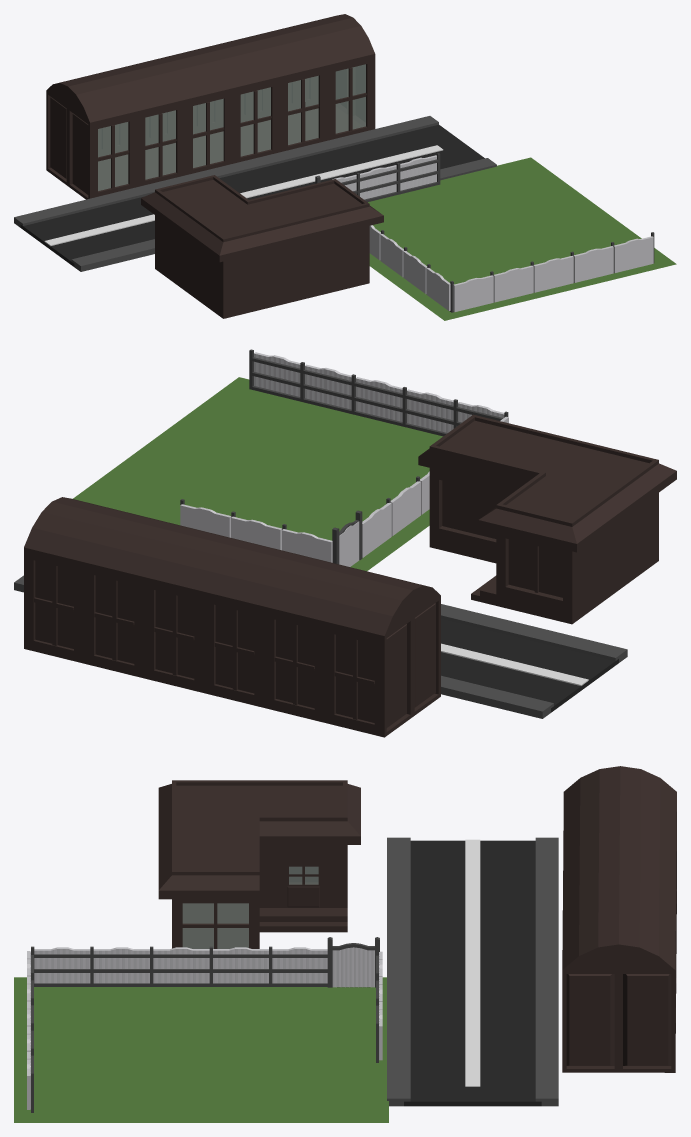
Rendered from улица.fbx.
3 views of the same model, one above another, from view 1: azimuth 30°, elevation 25°; view 2: azimuth 150°, elevation 25°; view 3: azimuth 270°, elevation 25° (orthographic). The views are drawn at different scales.
Parts seen in each view (by area): view 1: Cube.063, Cube.064, Plane, Cube.052, Cube.059, Cube.058, Cube.060, Cube.056; view 2: Cube.063, Cube.064, Plane, Cube.052, Cube.059, Cube.055, Cube.060, Cube.058, Cube.054; view 3: Plane, Cube.052, Cube.063, Cube.064, Cube.058, Cube.057, Cube.054, Cube.053, Cube.059.
Boxes of the visible parts, bbox=[...] form: Cube.063: bbox=[46, 14, 375, 199]; Cube.064: bbox=[141, 175, 383, 318]; Plane: bbox=[368, 157, 676, 320]; Cube.052: bbox=[14, 116, 496, 271]; Cube.059: bbox=[453, 236, 653, 311]; Cube.058: bbox=[369, 225, 450, 310]; Cube.060: bbox=[332, 155, 436, 199]; Cube.056: bbox=[341, 153, 440, 202]; Cube.063: bbox=[24, 497, 440, 737]; Cube.064: bbox=[418, 414, 676, 624]; Plane: bbox=[73, 377, 442, 571]; Cube.052: bbox=[14, 575, 627, 718]; Cube.059: bbox=[254, 352, 504, 432]; Cube.055: bbox=[249, 349, 503, 436]; Cube.060: bbox=[180, 504, 332, 562]; Cube.058: bbox=[362, 416, 508, 557]; Cube.054: bbox=[339, 521, 359, 566]; Plane: bbox=[14, 977, 388, 1122]; Cube.052: bbox=[387, 837, 558, 1106]; Cube.063: bbox=[562, 766, 676, 1072]; Cube.064: bbox=[158, 780, 360, 948]; Cube.058: bbox=[34, 947, 327, 983]; Cube.057: bbox=[31, 946, 327, 986]; Cube.054: bbox=[332, 947, 374, 987]; Cube.053: bbox=[327, 937, 379, 987]; Cube.059: bbox=[27, 951, 30, 1109].
Bounding box in the file's own units: 265 × 268 × 56.67.
